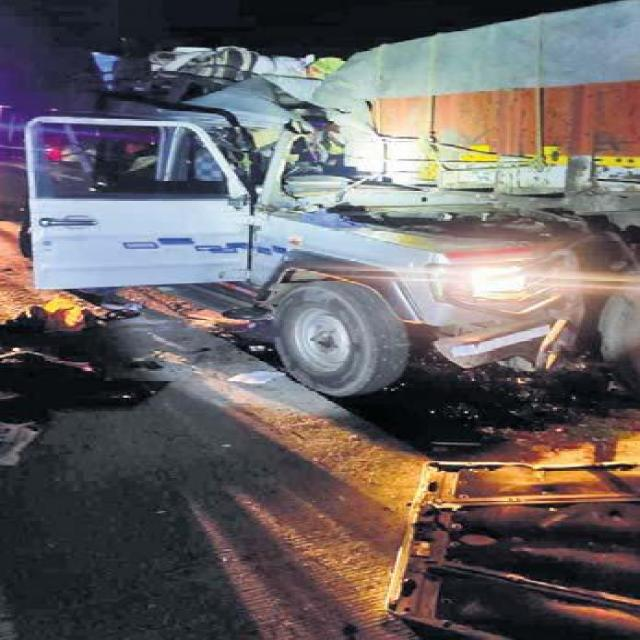accident: (27, 80, 635, 396)
